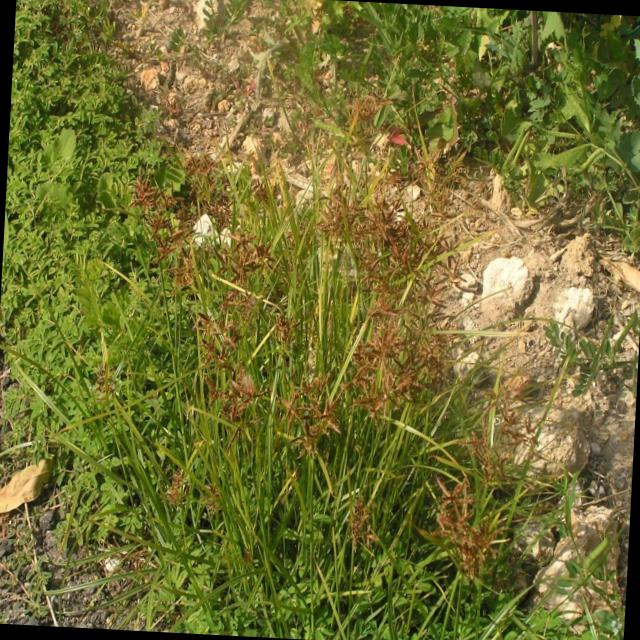cyperus: (352, 286, 450, 405), (316, 186, 416, 282), (458, 382, 544, 486), (424, 472, 500, 586), (214, 227, 274, 342), (274, 371, 348, 464), (127, 164, 190, 266), (199, 361, 265, 437), (182, 148, 235, 229), (193, 312, 250, 370), (346, 497, 376, 549), (273, 310, 304, 354), (170, 247, 198, 289), (163, 466, 190, 505)
